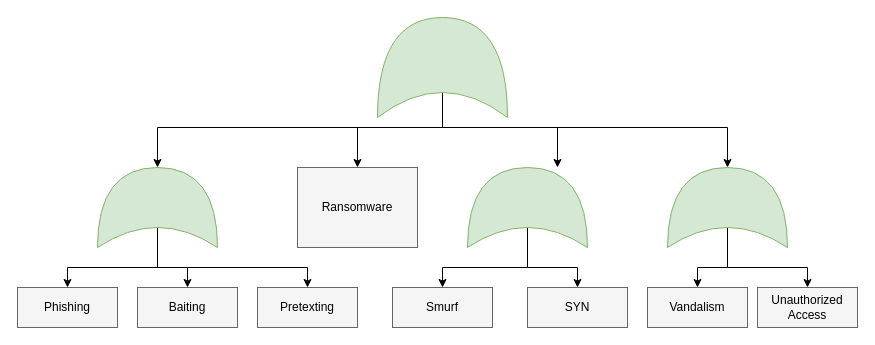
Image size: 875x345. Some labels were removed from this diagram. The box of each missing label's shape, as (x1, y1, x2, y2) in pixels:
Denial-of-Service (DoS): (466, 166, 588, 248)
Disrupt Business: (376, 16, 508, 118)
Physical Threats: (666, 166, 788, 248)
Social Engineering: (96, 166, 218, 248)
